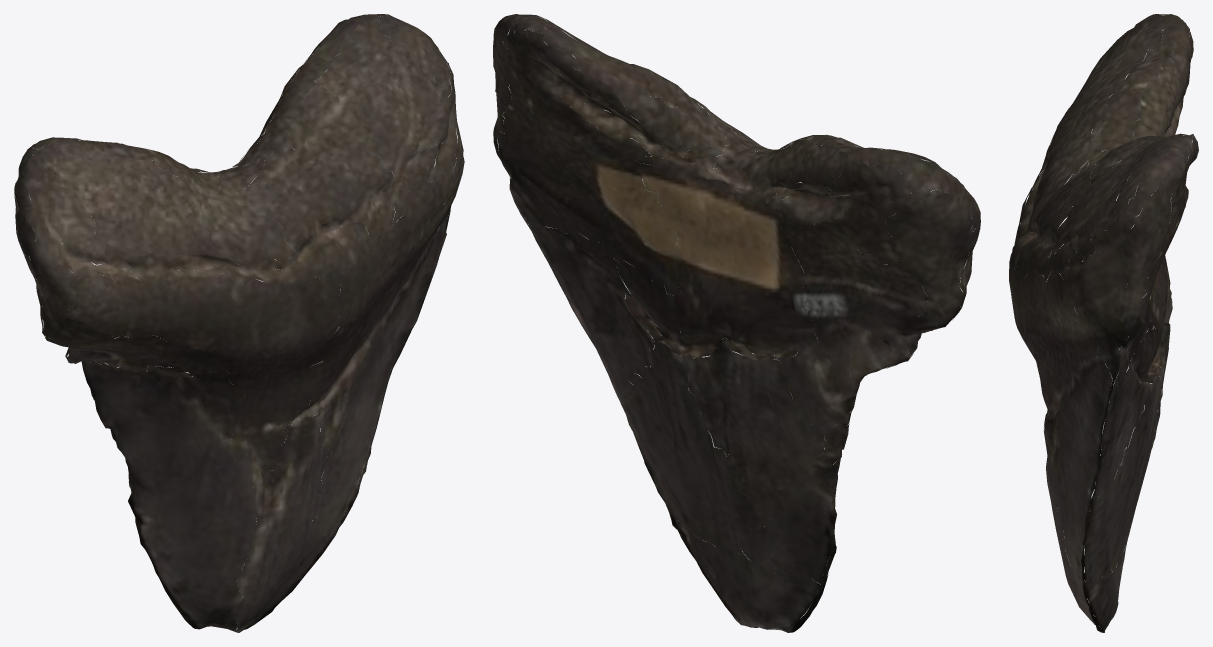
The model's file is si_megalodon_tooth.gltf.
The picture shows the model from 3 angles, left to right: view 1: azimuth 30°, elevation 25°; view 2: azimuth 150°, elevation 25°; view 3: azimuth 270°, elevation 25°; orthographic projection. The views are drawn at different scales.
Parts seen in each view (by area): view 1: unit_fix; view 2: unit_fix; view 3: unit_fix.
Boxes of the visible parts, x1,y1,x2,y2 form: unit_fix: (14, 14, 464, 632); unit_fix: (493, 14, 980, 632); unit_fix: (1009, 14, 1198, 632).
Size of the model in its own units: 0.1223 by 0.1452 by 0.0435.
1 material, 1 textured.
